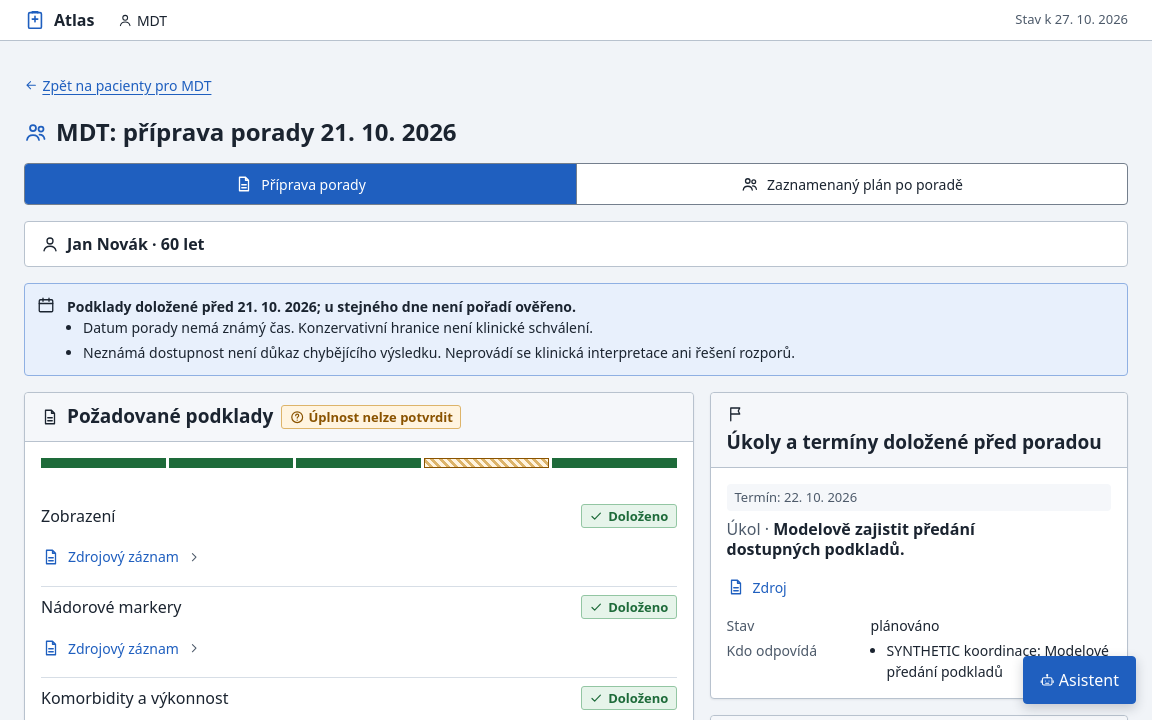
Scenario: assistant dialog › mdt opened case/own record exposes the assistant with the viewed caseId
Click the button "Asistent": {"x": 1080, "y": 680} [1024,656,1136,704]
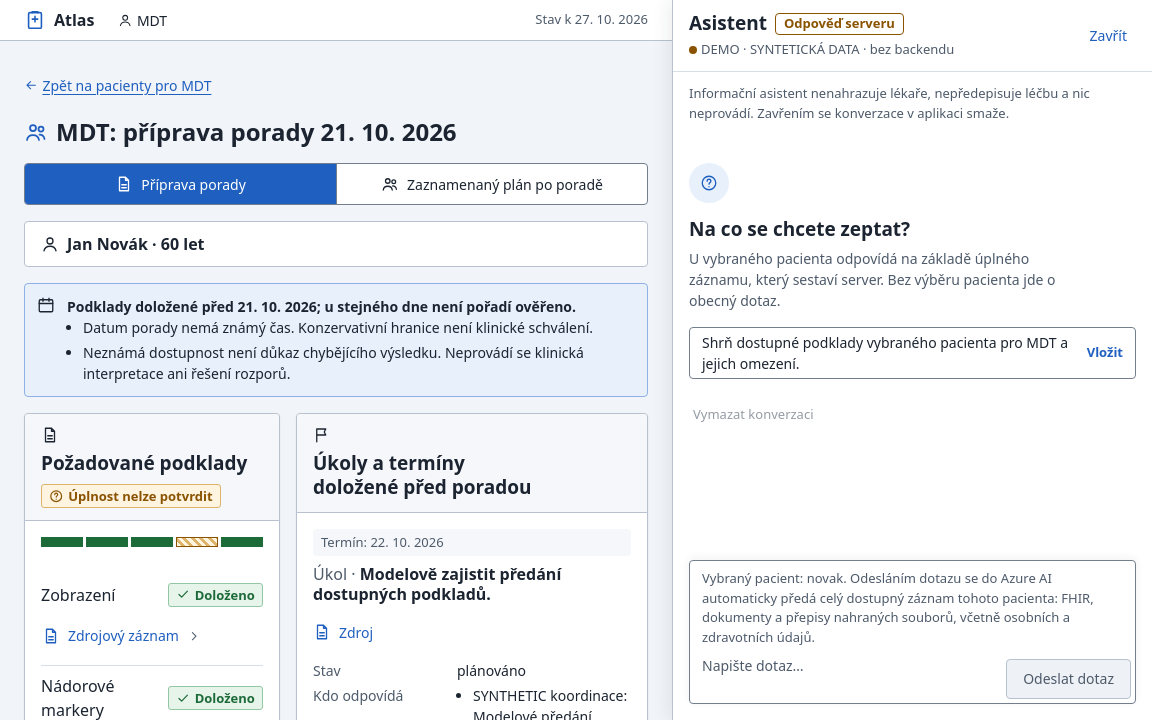
expect the text "Vybraný pacient: novak" is shown: met, box [702,569,1094,646]
In the text box named "Váš dotaz": {"x": 846, "y": 675} [690,647,1002,703], type "Shrň záznam."
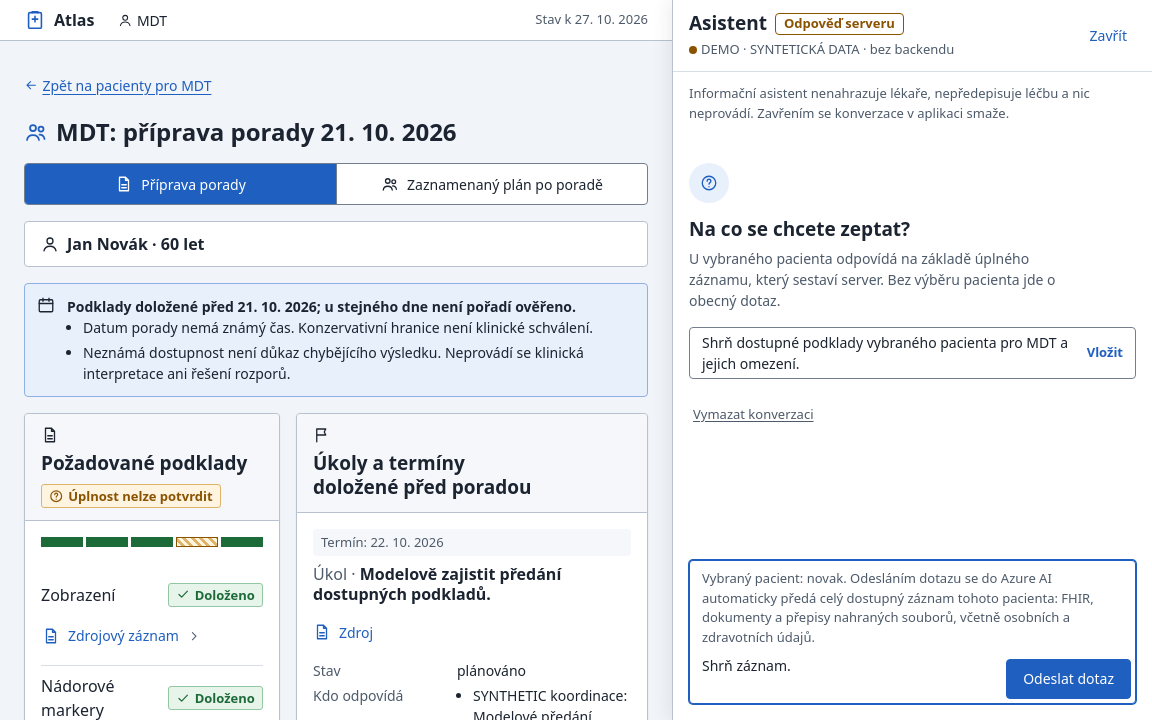
Click the button "Odeslat dotaz": {"x": 1069, "y": 679} [1006,659,1131,699]
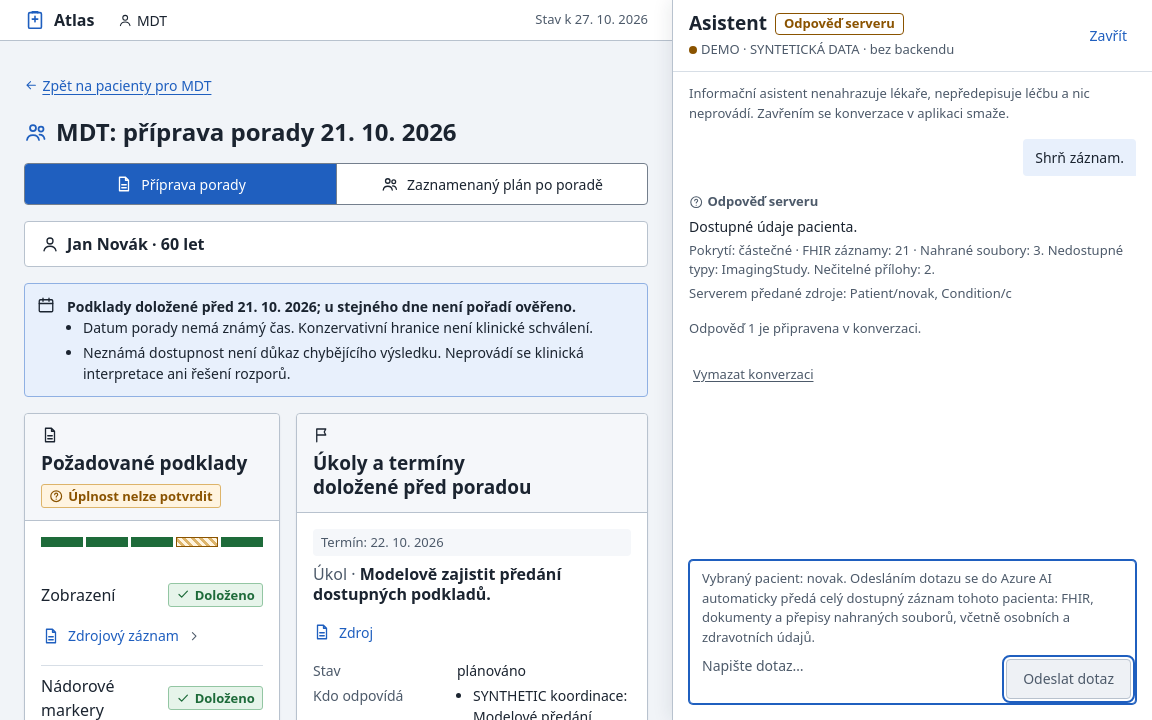
expect the text "Dostupné údaje pacienta." is shown: met, box [689,217,857,236]
